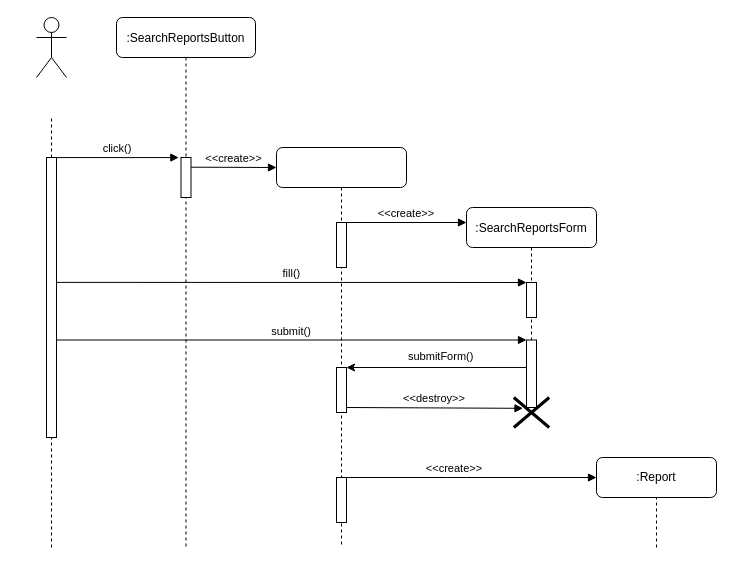
The diagram is 734 pixels wide and 566 high, and some of its shapes have lost their labels. The shapes that lost their labels are listed below. From the top down, each one's centre as x and y in pixels, then its label:
point (51, 47): :Direttore di Dipartimento
point (341, 347): :SearchReportsControl
